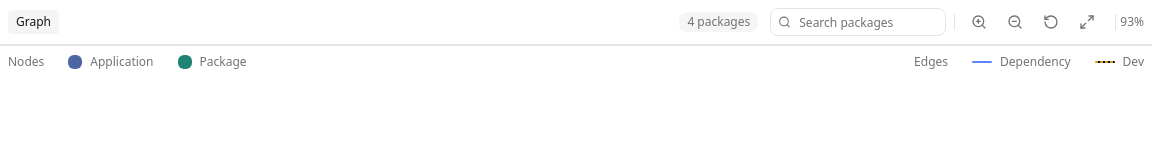
Test: TurborepoGraphVisual › Search › opens a result as a tab and clears itself
Type "utils" into the search field labelled "Search packages".
click(858, 22); type("utils")  # box [770,8,946,36]
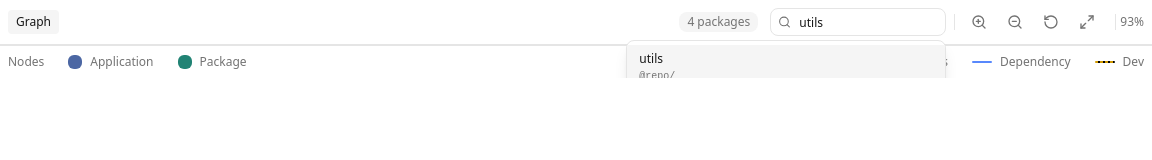
Click the option "utils @repo/".
click(657, 76)  # box [627,45,945,90]
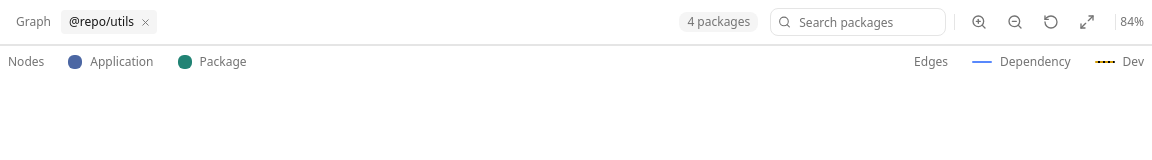
Expected: the tab "@repo/utils" is shown, [61,10,138,34]
Expected: the search field labelled "Search packages" is empty, [770,8,946,36]
